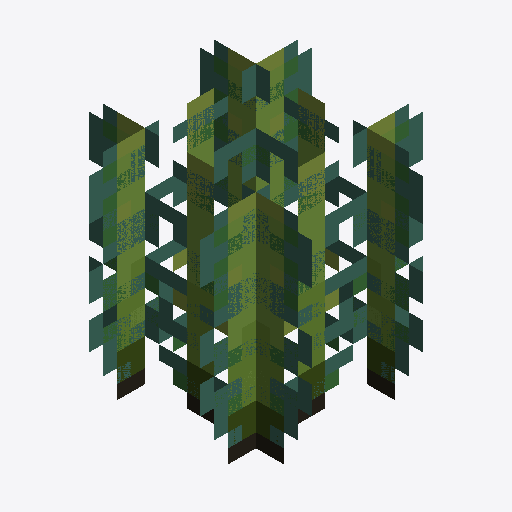
A Minecraft block model of 4 cuboids, rendered isometrically (azimuth 45°, elevation 35.3°) with the resource pack's own textures.
Visible parts, largest first — element 1, element 4, element 2, element 3.
Boxes of the visible parts, x1=… form: element 1: x1=89, y1=104, x2=311, y2=463; element 4: x1=200, y1=104, x2=422, y2=463; element 2: x1=200, y1=40, x2=422, y2=399; element 3: x1=89, y1=40, x2=311, y2=399.
Size of the model in its own units: 16 by 16 by 16.